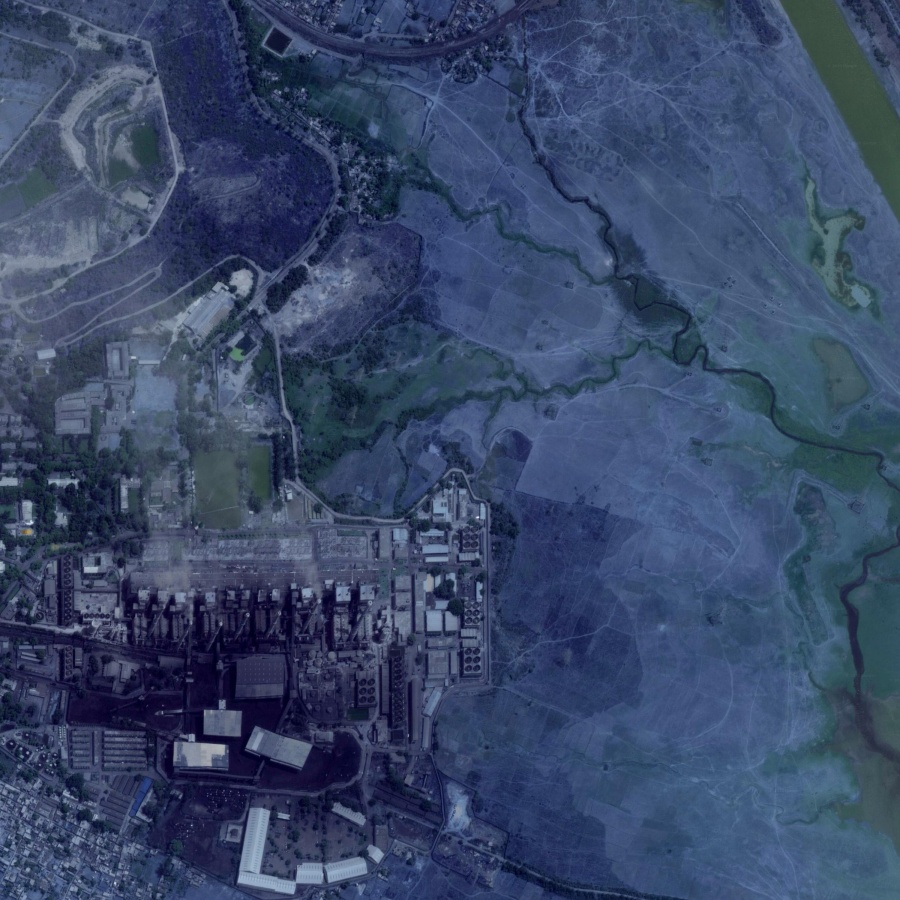PowerPlant: (68, 450, 491, 800)
